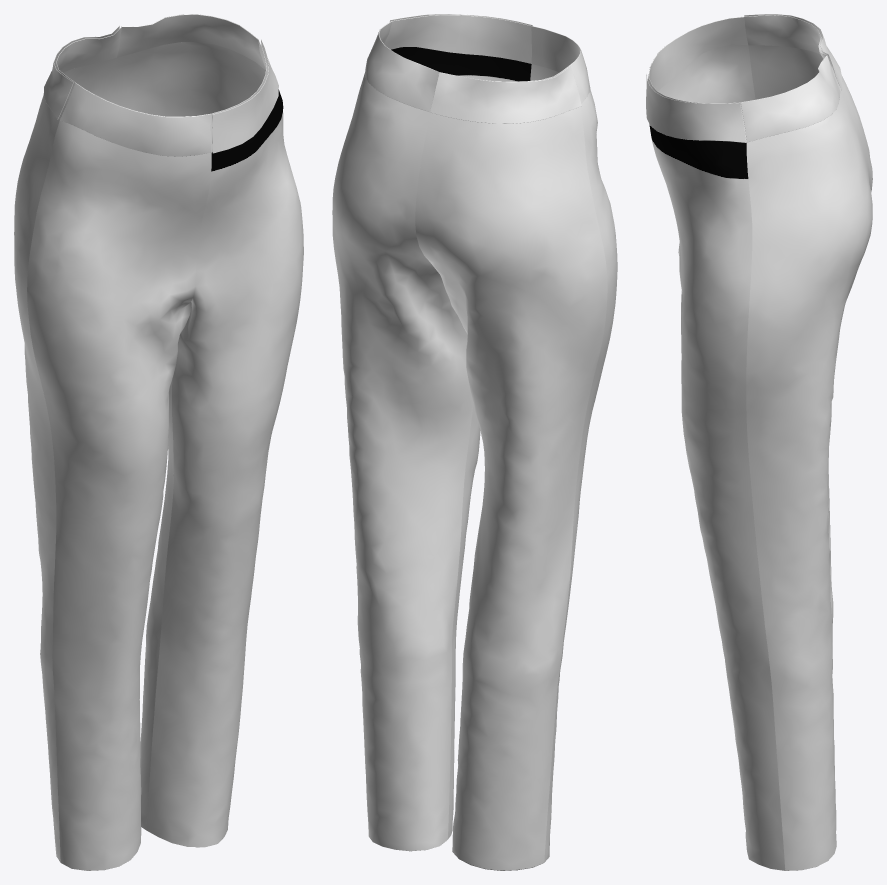
The model's file is femalePants.glb.
The picture shows the model from 3 angles, left to right: view 1: azimuth 30°, elevation 25°; view 2: azimuth 150°, elevation 25°; view 3: azimuth 270°, elevation 25°; orthographic projection. The views are drawn at different scales.
Parts seen in each view (by area): view 1: pants; view 2: pants; view 3: pants.
Part boxes in pixels (x1,y1,x2,y2): pants: (14, 14, 303, 870); pants: (332, 14, 617, 870); pants: (646, 14, 872, 870).
Bounding box in the file's own units: 3.63 × 10.48 × 2.76.
Materials: 1 (1 with a texture image).
